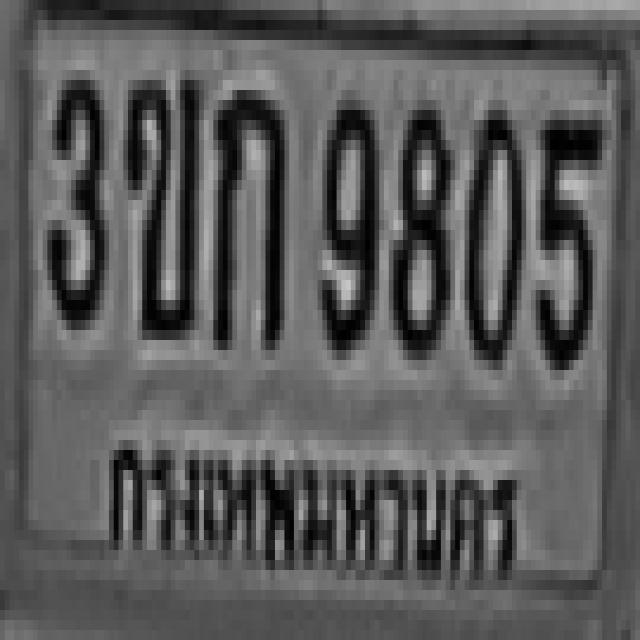0: (462, 100, 519, 360)
10GorGai: (208, 80, 280, 340)
11KhorKhai: (123, 70, 199, 330)
3: (43, 70, 104, 320)
5: (531, 110, 597, 360)
8: (388, 90, 446, 350)
9: (318, 90, 374, 350)
Bangkok: (100, 417, 532, 607)
